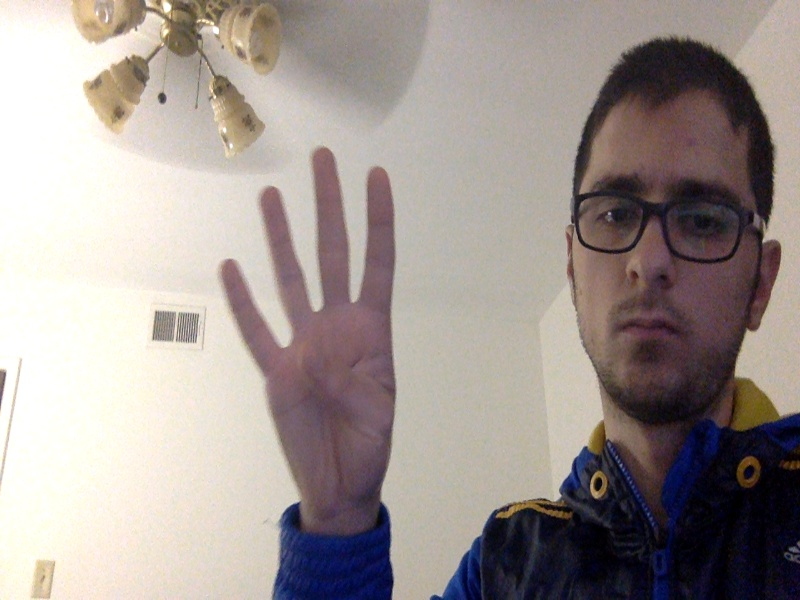4-hand: (216, 149, 396, 508)
